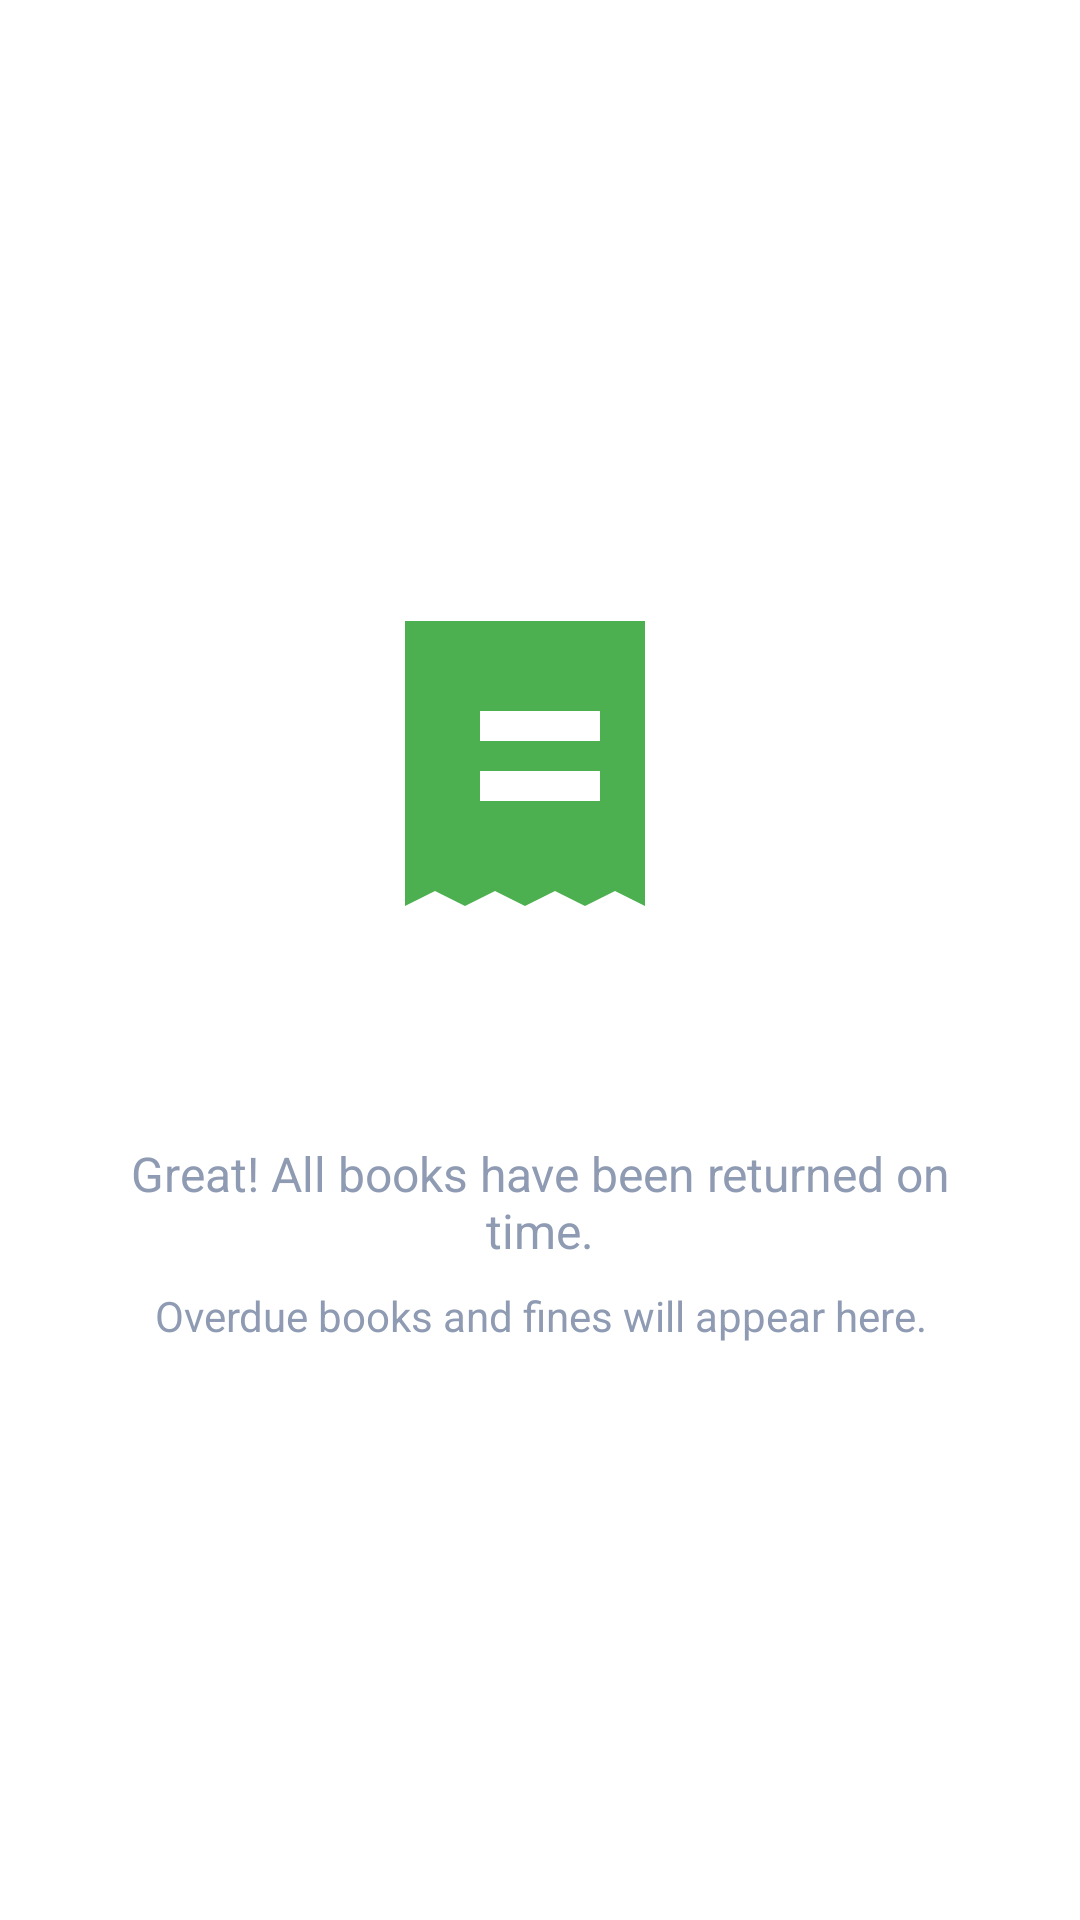

Locate icon controls on the screen. Image size 1080w x 1920h, boxes as [x1=x1, y1=y1, x2=x2, y2=y2].
fines: [x1=405, y1=621, x2=645, y2=906]
